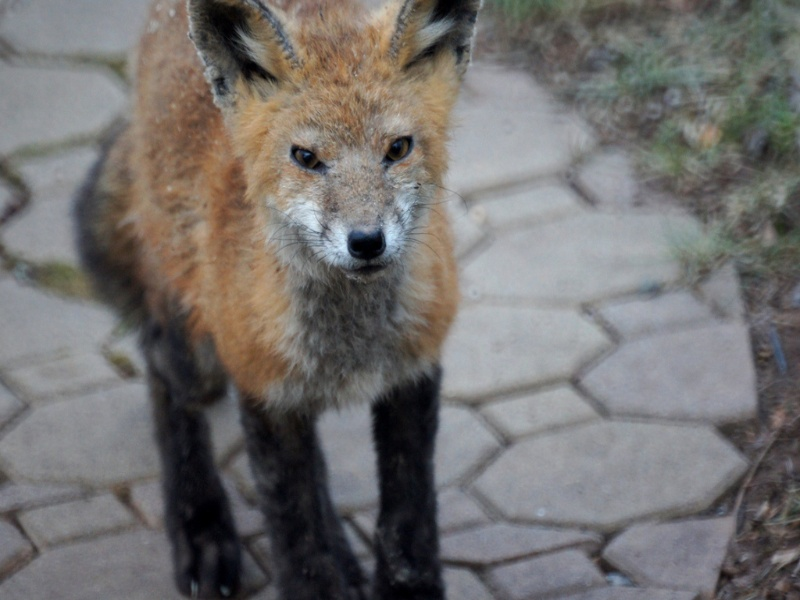fox: (82, 5, 470, 600)
